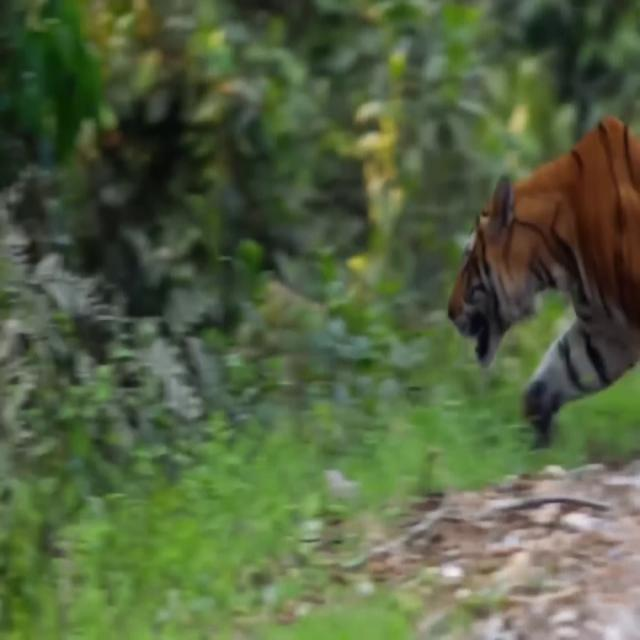tiger: (448, 115, 640, 436)
